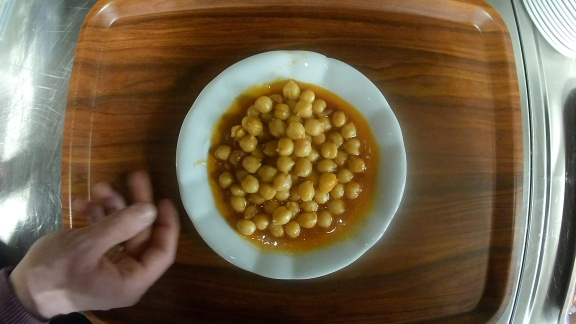sulunohut: (176, 49, 407, 282)
